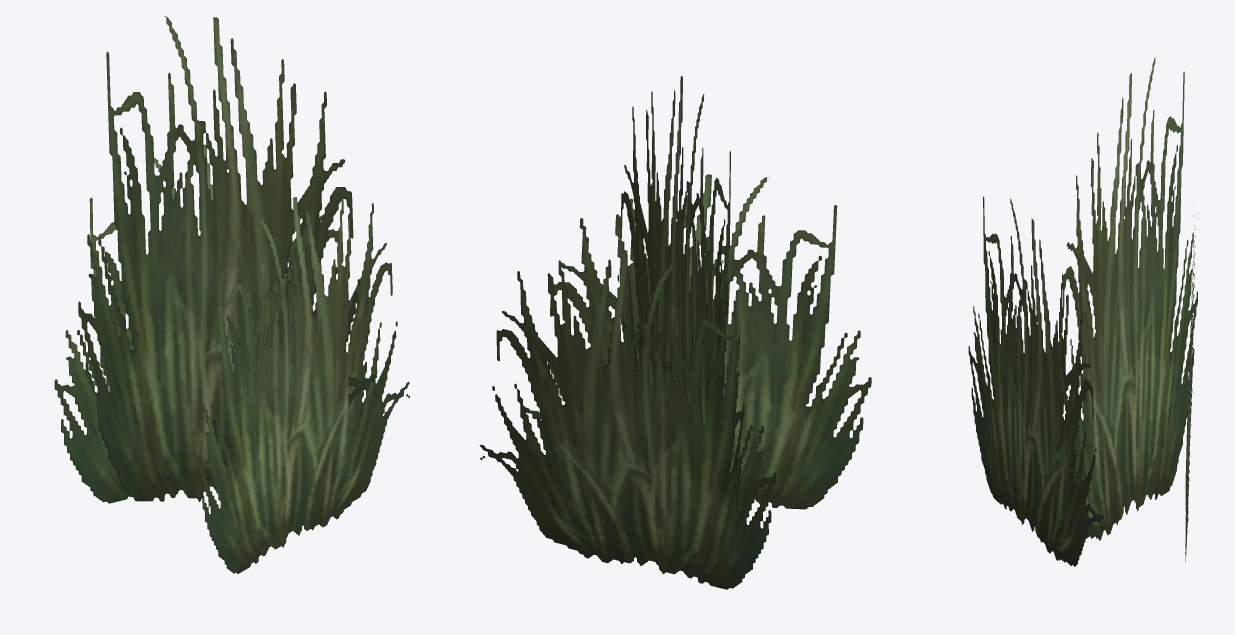
Rendered from town_grass02.fbx.
3 views of the same model, side by side, from view 1: azimuth 30°, elevation 25°; view 2: azimuth 150°, elevation 25°; view 3: azimuth 270°, elevation 25° (orthographic). The views are drawn at different scales.
Parts seen in each view (by area): view 1: town_layout_grass02; view 2: town_layout_grass02; view 3: town_layout_grass02.
Part boxes in pixels (bbox=[...]): town_layout_grass02: bbox=[54, 16, 409, 573]; town_layout_grass02: bbox=[479, 76, 871, 589]; town_layout_grass02: bbox=[968, 57, 1197, 566].
Bounding box in the file's own units: 0.9686 × 1.25 × 0.6699.
